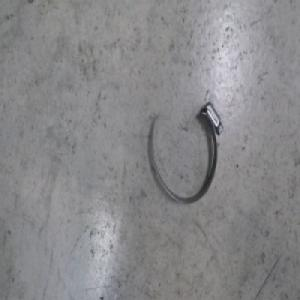AdjustableClamp: (147, 99, 223, 207)
